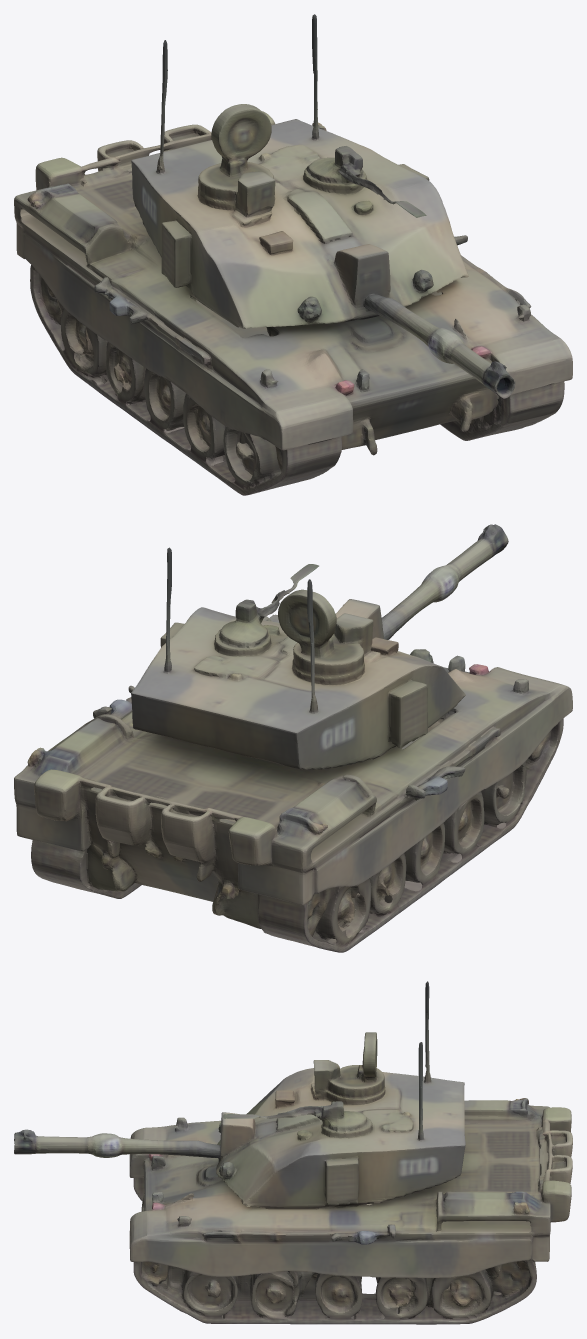
3 views of the same model, one above another, from view 1: azimuth 30°, elevation 25°; view 2: azimuth 150°, elevation 25°; view 3: azimuth 270°, elevation 25° (orthographic). The views are drawn at different scales.
Parts seen in each view (by area): view 1: geometry_0; view 2: geometry_0; view 3: geometry_0.
Part boxes in pixels (<box>): geometry_0: <box>14,14,572,495</box>; geometry_0: <box>14,524,572,952</box>; geometry_0: <box>14,981,572,1324</box>.
Size of the model in its own units: 0.544 by 0.5214 by 1.
